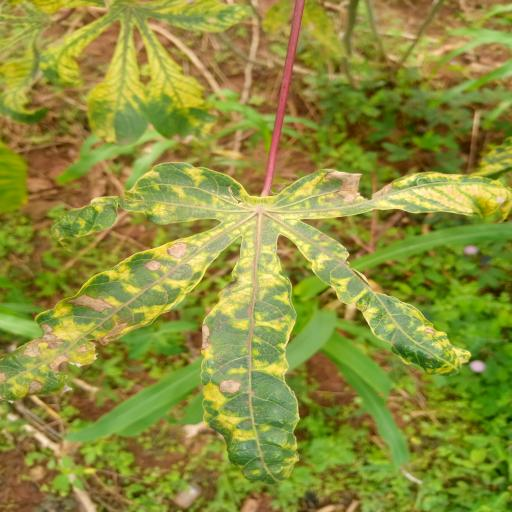Cassava_Mosaic: (5, 157, 512, 482)
